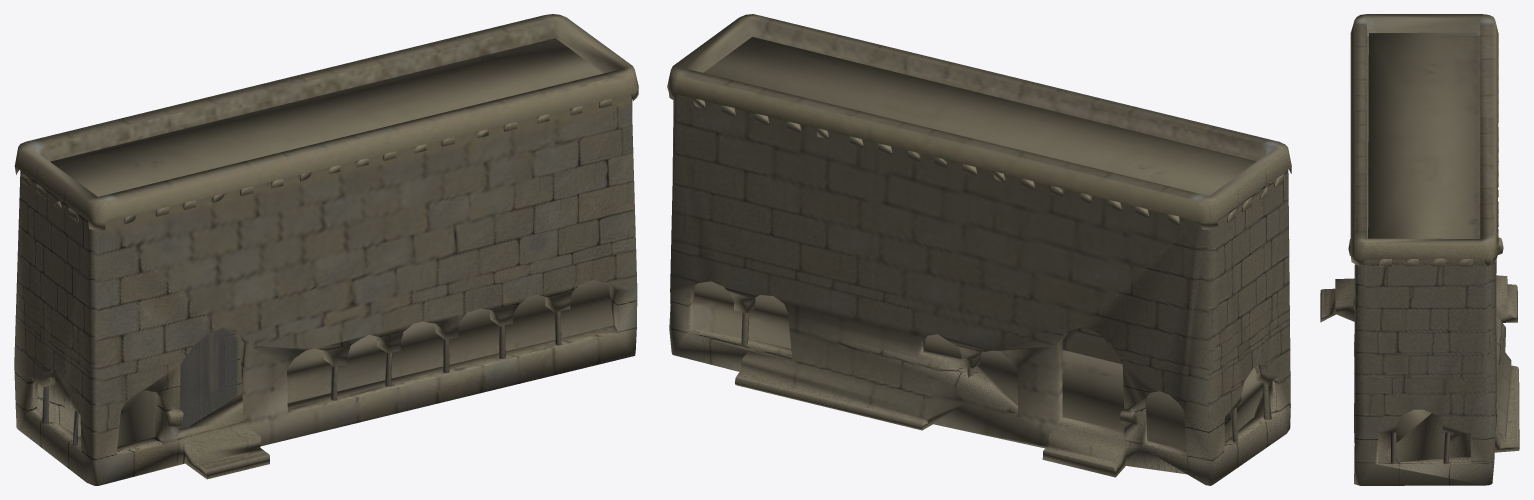
File: wall_section.glb
3 views of the same model, side by side, from view 1: azimuth 30°, elevation 25°; view 2: azimuth 150°, elevation 25°; view 3: azimuth 270°, elevation 25° (orthographic). The views are drawn at different scales.
Size of the model in its own units: 0.9541 by 0.4678 by 0.3467.
Materials: 1 (1 with a texture image).
